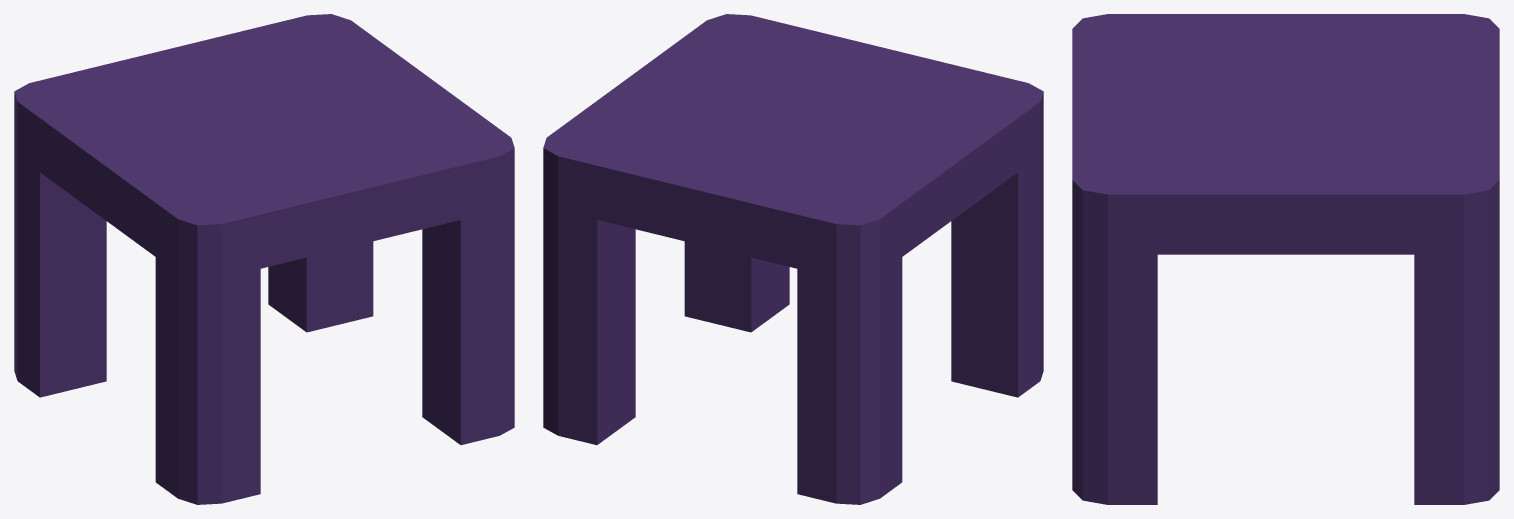
Rendered from CLTable1.fbx.
3 renders of one model, left to right at view 1: azimuth 30°, elevation 25°; view 2: azimuth 150°, elevation 25°; view 3: azimuth 270°, elevation 25°, orthographic. The views are drawn at different scales.
Visible parts, largest first — view 1: Table1.002; view 2: Table1.002; view 3: Table1.002.
Boxes of the visible parts, box(x1,y1,x2,y2) form: Table1.002: box(14, 14, 514, 504); Table1.002: box(543, 14, 1043, 504); Table1.002: box(1072, 14, 1499, 504).
Bounding box in the file's own units: 84.14 × 67.4 × 84.14.
